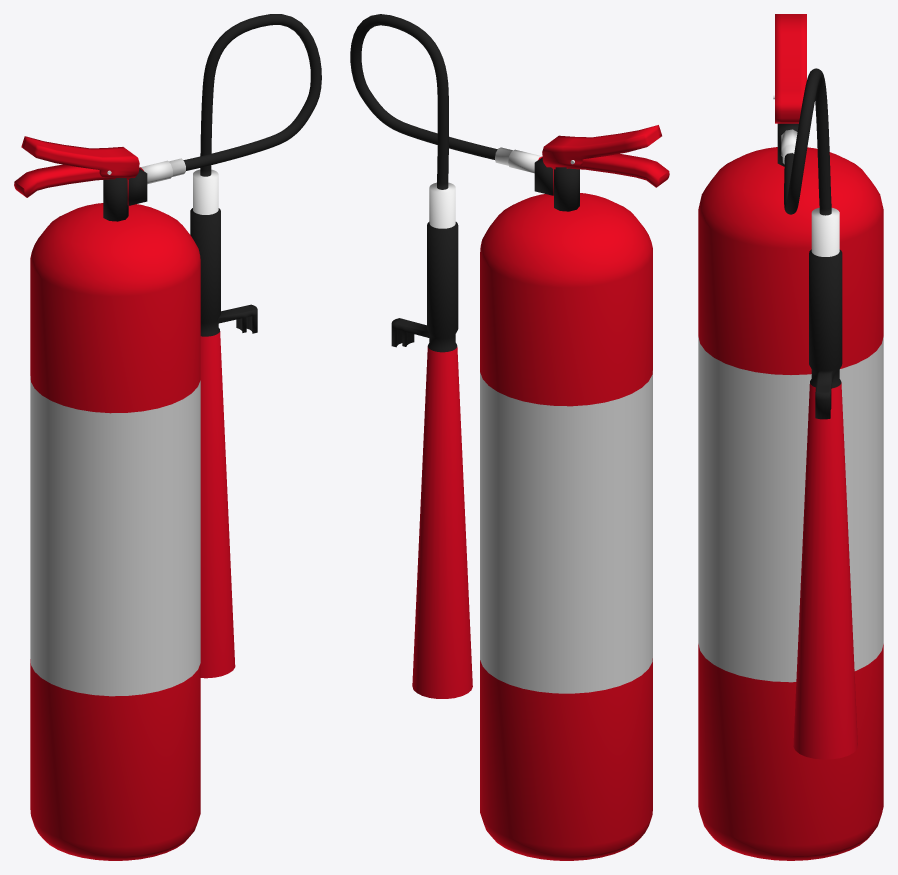
Rendered from Extintor.fbx.
3 views of the same model, side by side, from view 1: azimuth 30°, elevation 25°; view 2: azimuth 150°, elevation 25°; view 3: azimuth 270°, elevation 25° (orthographic). The views are drawn at different scales.
Parts seen in each view (by area): view 1: BezierCurve; view 2: BezierCurve; view 3: BezierCurve.
Boxes of the visible parts, left/top/right/bottom form: BezierCurve: left=14, top=14, right=321, bottom=860; BezierCurve: left=350, top=14, right=669, bottom=860; BezierCurve: left=698, top=14, right=883, bottom=860.
Size of the model in its own units: 41.94 by 101 by 20.35.
